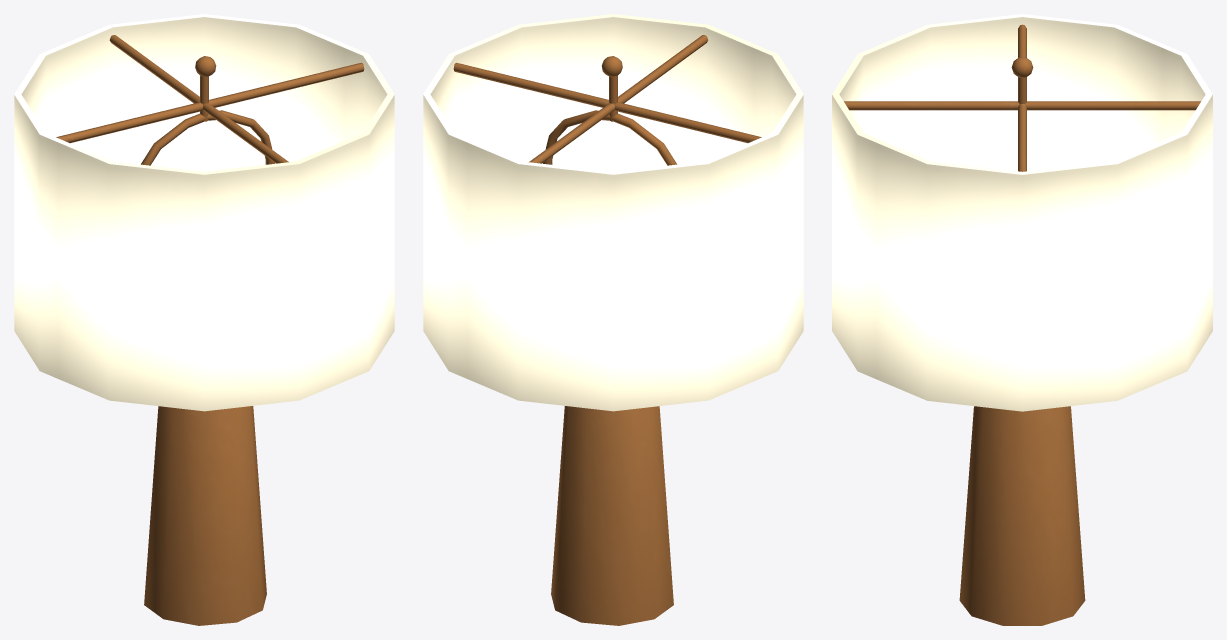
File: Lights_Table_Lamps_2.fbx
The picture shows the model from 3 angles, left to right: view 1: azimuth 30°, elevation 25°; view 2: azimuth 150°, elevation 25°; view 3: azimuth 270°, elevation 25°; orthographic projection.
Parts seen in each view (by area): view 1: Cylinder.028; view 2: Cylinder.028; view 3: Cylinder.028.
Part boxes in pixels (box(x1,y1,x2,y2)): Cylinder.028: box(14, 14, 394, 625); Cylinder.028: box(423, 14, 803, 625); Cylinder.028: box(832, 14, 1212, 625).
Size of the model in its own units: 41.14 by 64.73 by 41.14.
